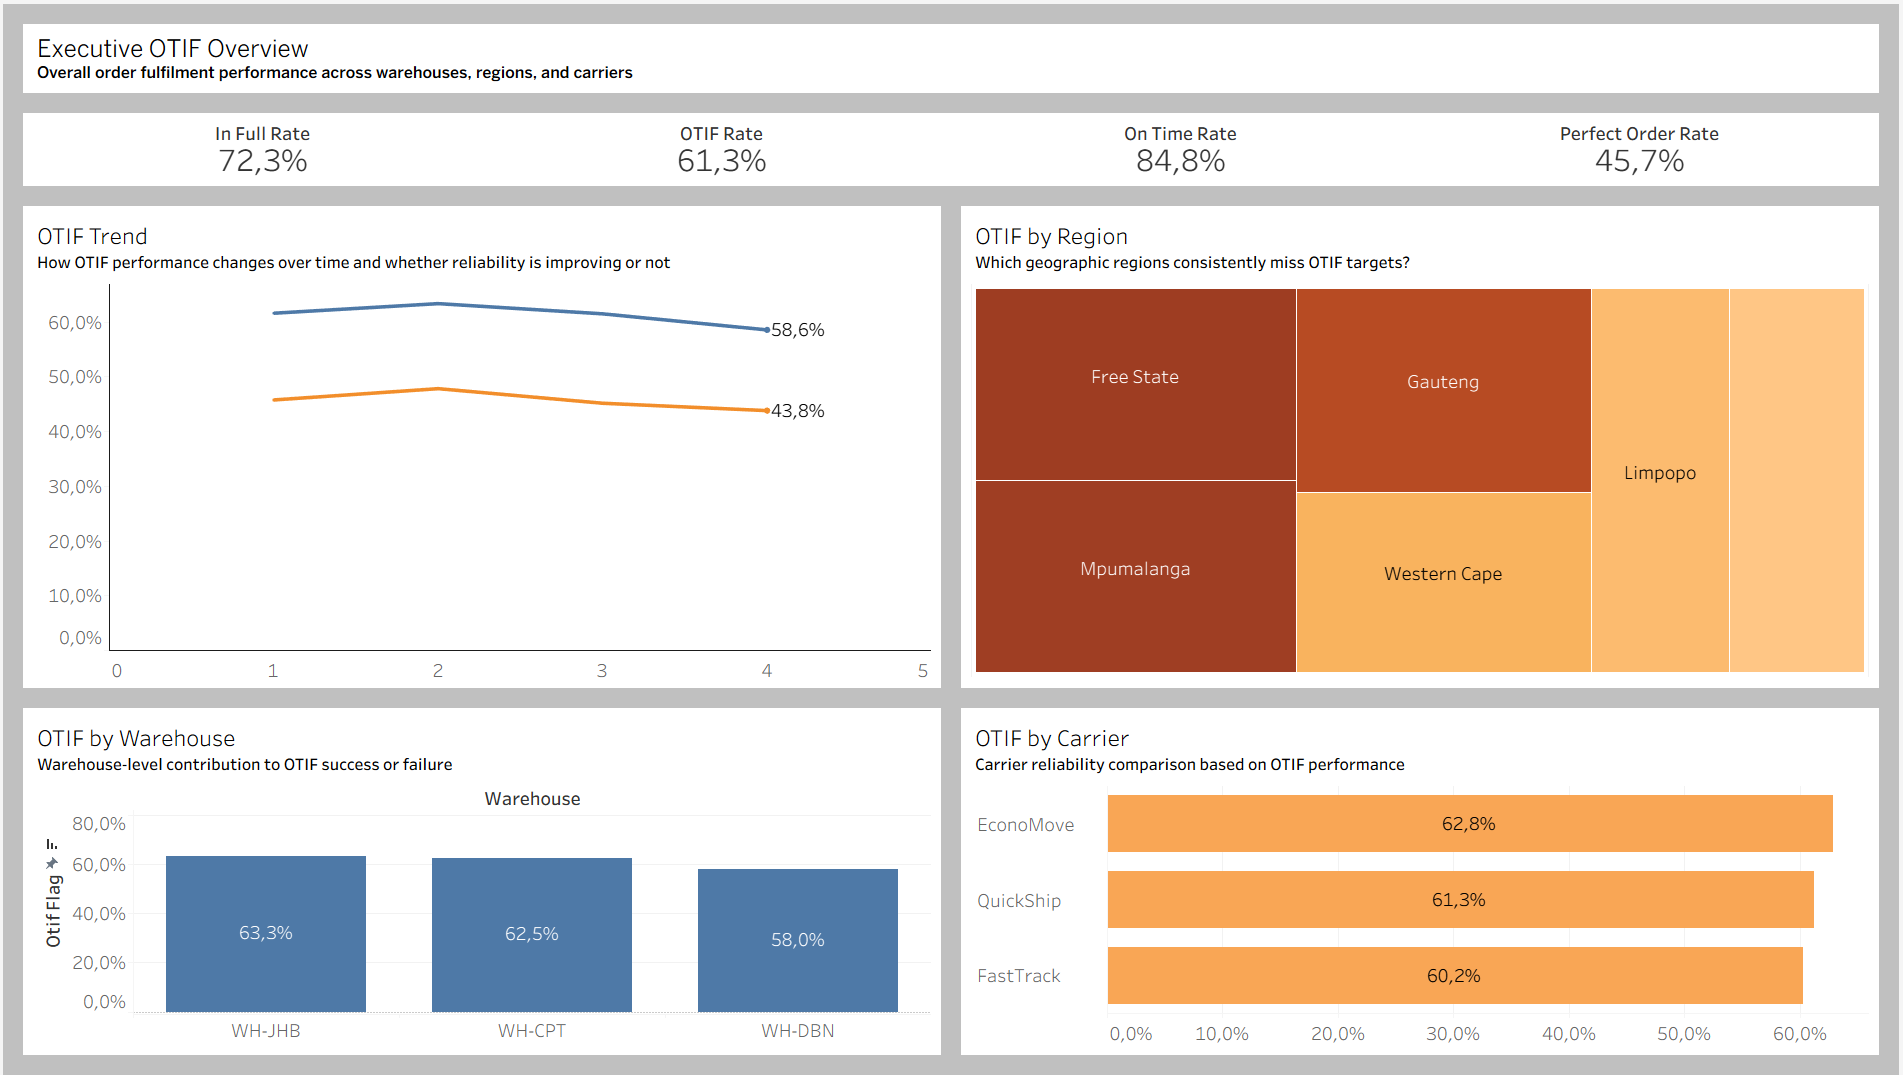

This screenshot's page, from the dashboard's own definition file:
{"tool":"tableau","page":{"name":"Executive OTIF Overview","canvas":[1000,1000],"units":"permille","ordinal":1},"visuals":[{"type":"text","box":[13.7,24.5,972.6,99.2]},{"type":"worksheet","title":"KPIs Tiles","mark":"Automatic","box":[13.7,123.8,972.6,103.7]},{"type":"worksheet","title":"OTIF Trend","mark":"Line","rows":["otif_flag","perfect_order_flag"],"cols":["order_date"],"box":[13.7,227.4,486.3,338.9]},{"type":"worksheet","title":"OTIF by Region","mark":"Automatic","box":[500,227.4,486.3,338.9]},{"type":"worksheet","title":"OTIF by Warehouse","mark":"Bar","rows":["otif_flag"],"cols":["warehouse"],"box":[13.7,566.3,486.1,409.1]},{"type":"worksheet","title":"OTIF by Carrier","mark":"Automatic","rows":["carrier"],"cols":["otif_flag"],"box":[499.9,566.3,486.4,409.1]}]}

Visuals, with their boxes on the dashboard's canvas, which has no fixed pixel size, in thousandths of its width and height (x1, y1, x2, y2). These are canvas units, not pixel positions in the 1903x1075 screenshot, which may show the page scaled, cropped or inside an application window:
text: <region>14, 24, 986, 124</region>
"KPIs Tiles" worksheet: <region>14, 124, 986, 228</region>
"OTIF Trend" worksheet (Line marks): <region>14, 227, 500, 566</region>
"OTIF by Region" worksheet: <region>500, 227, 986, 566</region>
"OTIF by Warehouse" worksheet (Bar marks): <region>14, 566, 500, 975</region>
"OTIF by Carrier" worksheet: <region>500, 566, 986, 975</region>
